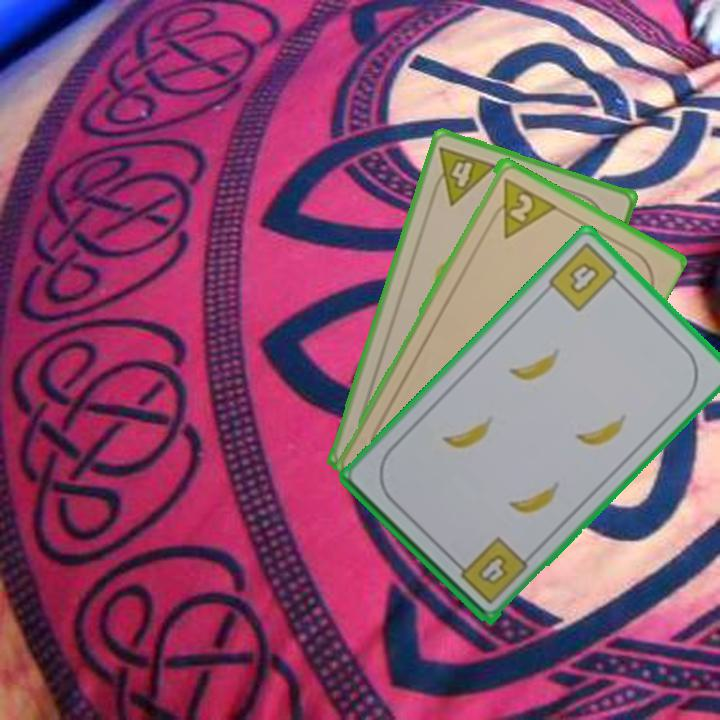2p: (485, 172, 557, 241)
4b: (544, 238, 627, 315), (450, 533, 531, 607)
4p: (426, 142, 500, 208)
